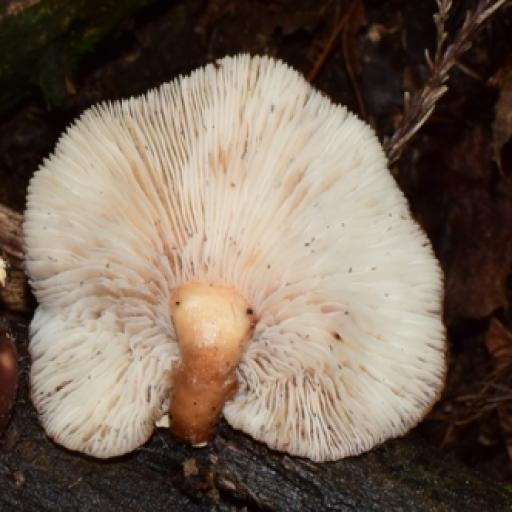Shiitake Mushroom: (42, 57, 441, 441)
